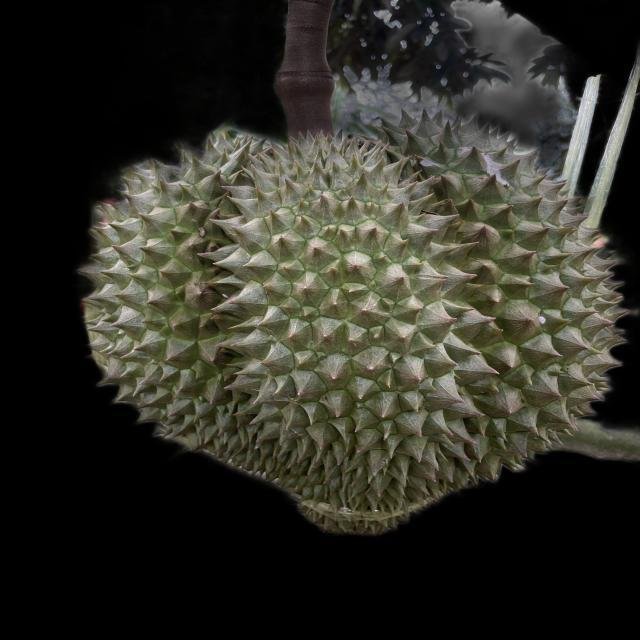immature: (80, 122, 629, 528)
